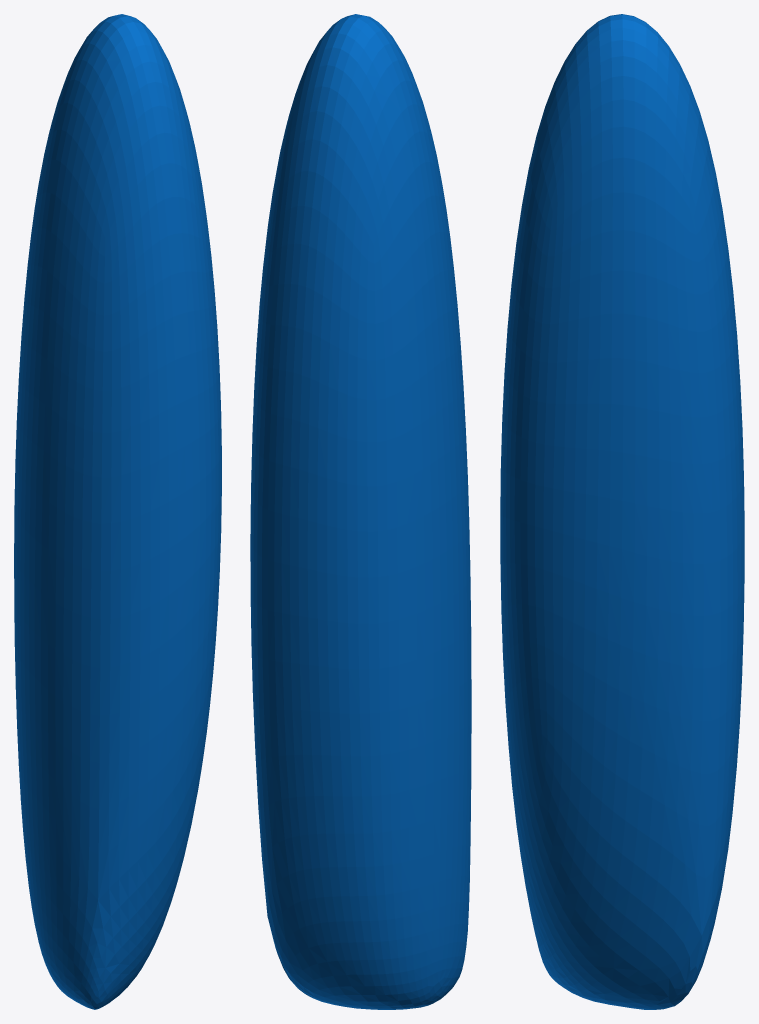
The picture shows the model from 3 angles, left to right: view 1: azimuth 30°, elevation 25°; view 2: azimuth 150°, elevation 25°; view 3: azimuth 270°, elevation 25°; orthographic projection. The views are drawn at different scales.
Parts seen in each view (by area): view 1: 039_Cube.164; view 2: 039_Cube.164; view 3: 039_Cube.164.
Boxes of the visible parts, x1,y1,x2,y2 form: 039_Cube.164: (14,14,221,1009); 039_Cube.164: (250,14,471,1009); 039_Cube.164: (500,14,744,1009).
Bounding box in the file's own units: 2.07 × 11.26 × 2.5.
